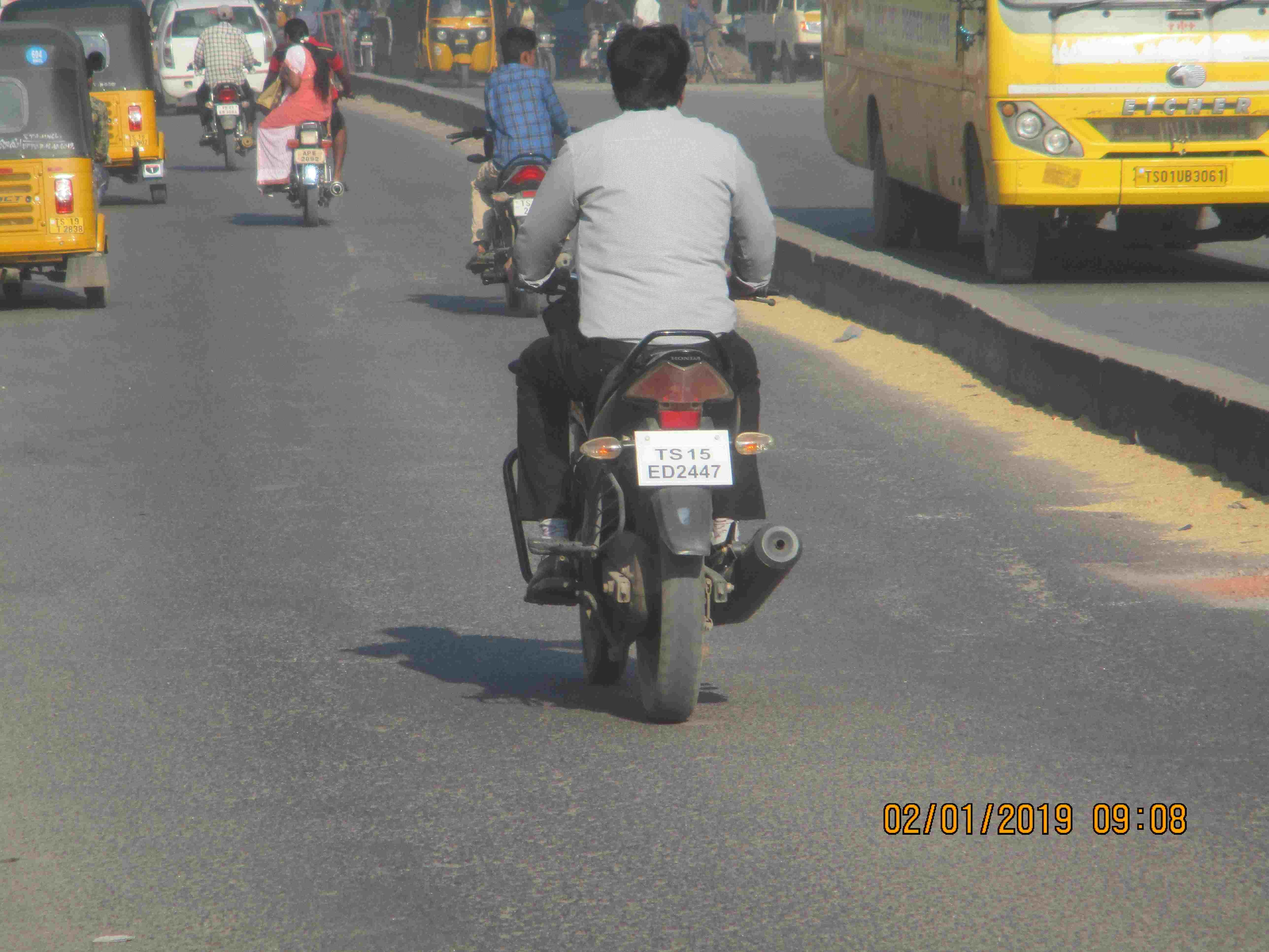plate: (634, 425, 737, 493), (295, 145, 327, 167), (213, 101, 245, 118)
